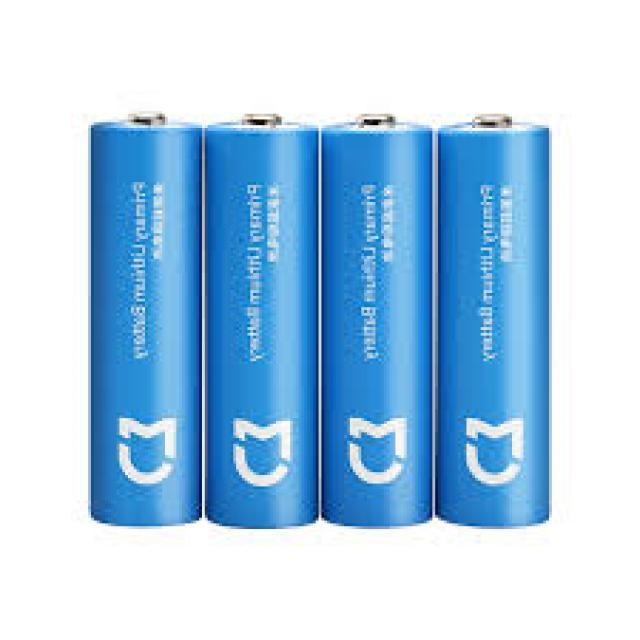battery: (198, 104, 324, 531), (432, 110, 553, 528), (86, 112, 202, 544), (320, 102, 432, 528)
